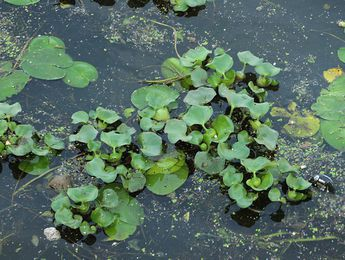water_hyacinth: (2, 40, 320, 240)
